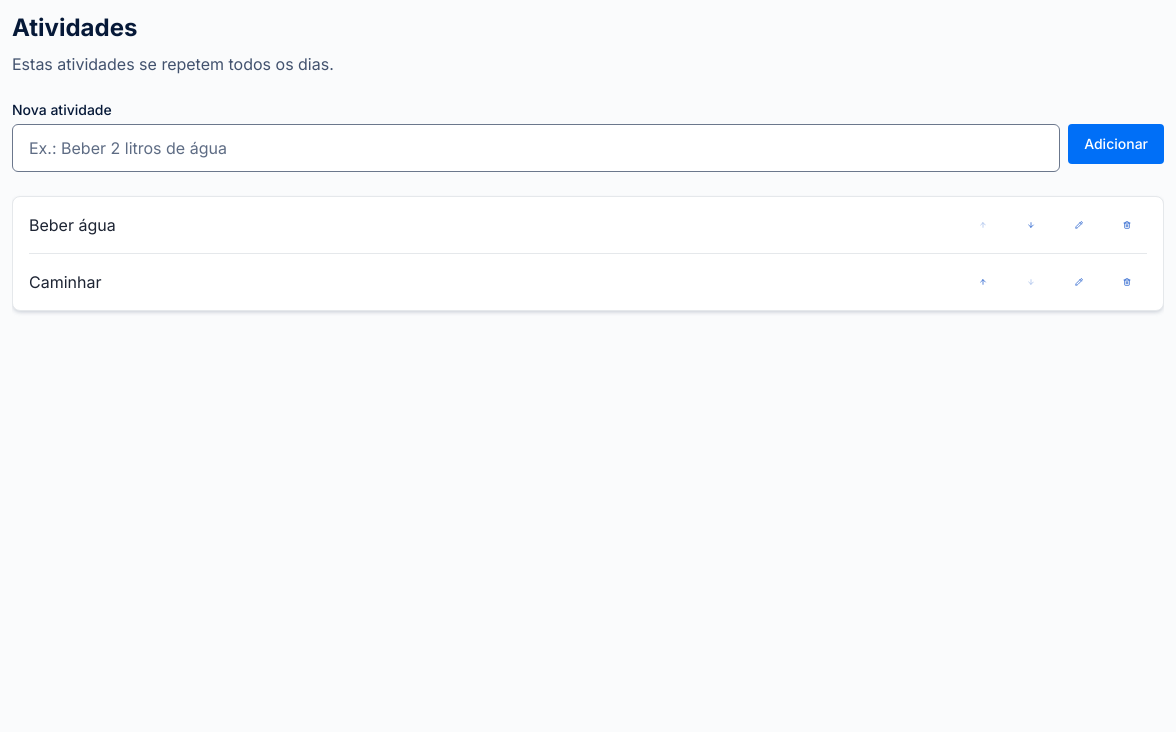
Test: Activities › deve voltar a ordem e avisar quando salvar a ordem falha
Step 1. Click the button named "Mover \"Beber água\" para baixo" → (1031,225), box [1011,205,1051,245]
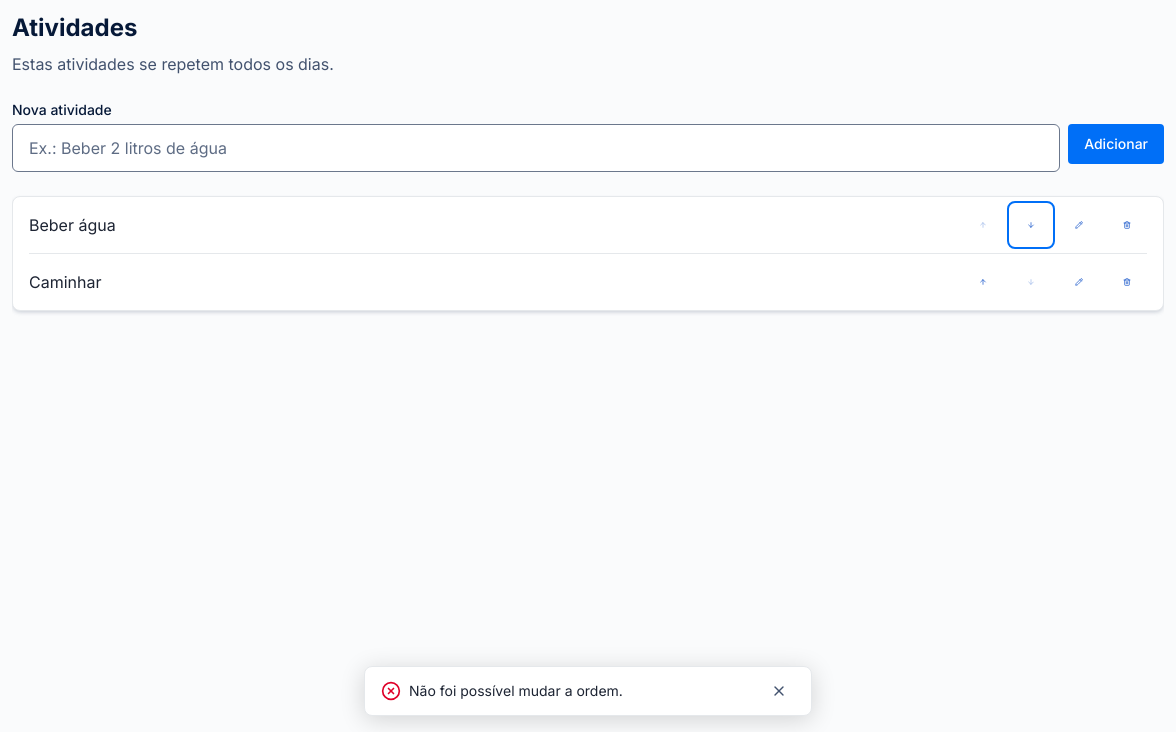
Expected: the text "Beber água" is shown, [29,215,116,235]
Expected: the message reads "Não foi possível mudar a ordem.", [409,682,623,699]
